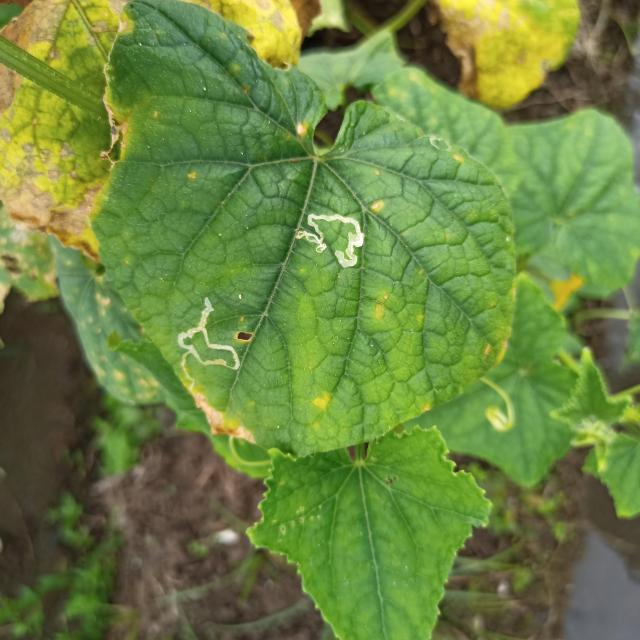disease_cucumber: (484, 326, 514, 368), (308, 392, 332, 428), (370, 295, 394, 323), (370, 197, 384, 219), (451, 152, 469, 166), (185, 170, 204, 181), (296, 121, 306, 141)
